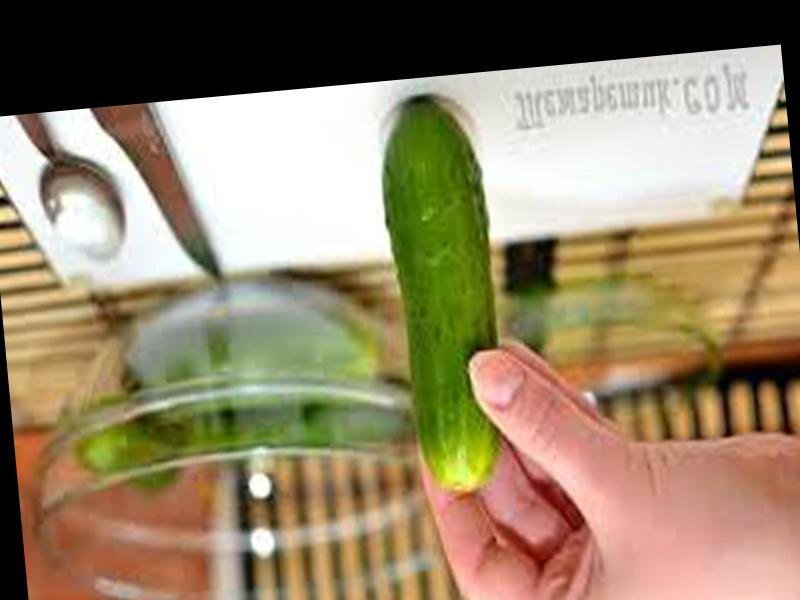Cucumber: (375, 95, 512, 496)
